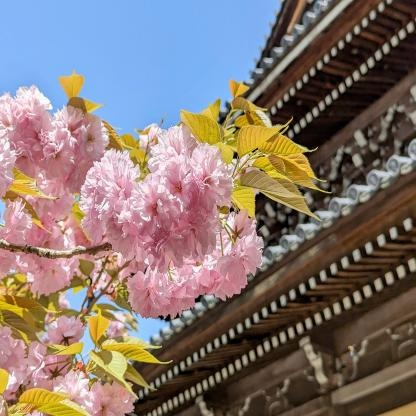YaeSakura: (0, 62, 265, 416)
